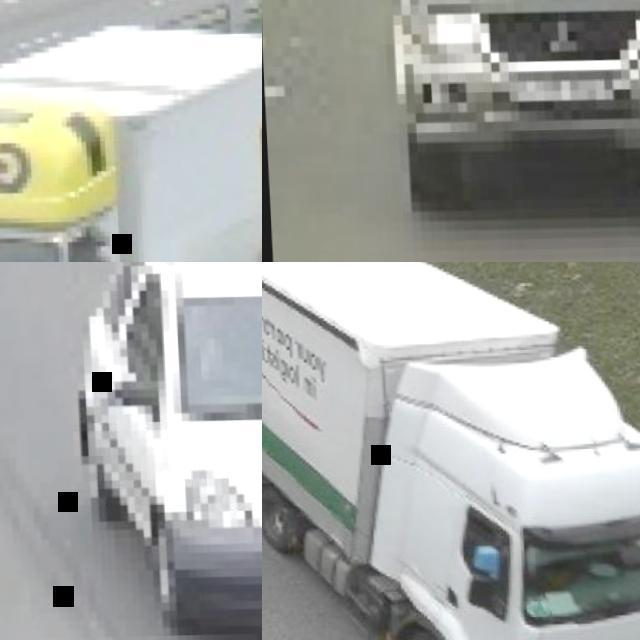car: (261, 258, 634, 639)
